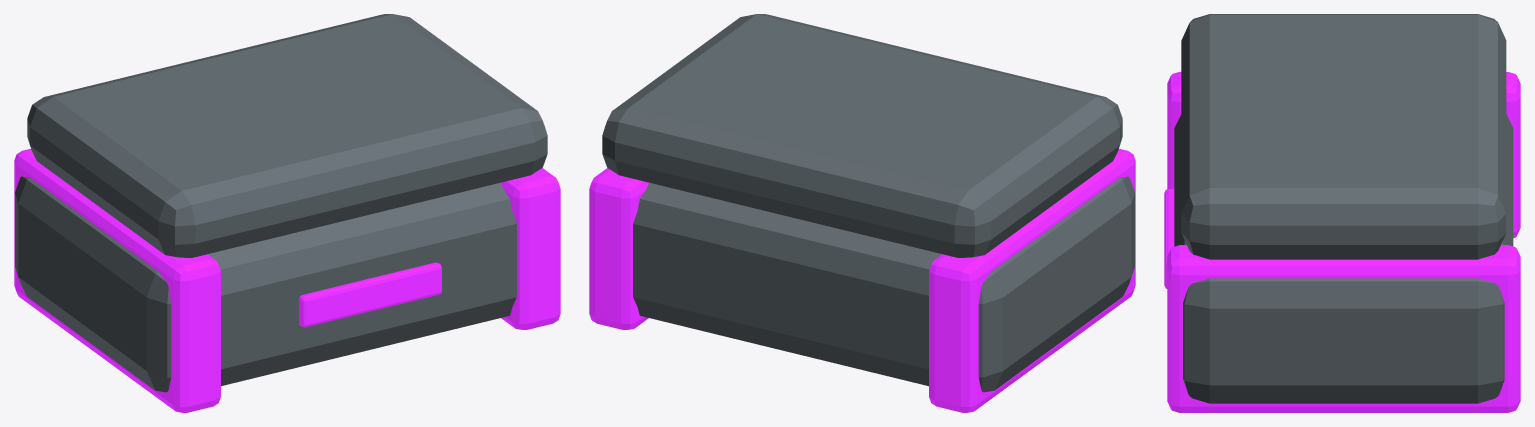
Rendered from CargoCase_Cursed.glb.
The picture shows the model from 3 angles, left to right: view 1: azimuth 30°, elevation 25°; view 2: azimuth 150°, elevation 25°; view 3: azimuth 270°, elevation 25°; orthographic projection. The views are drawn at different scales.
Parts seen in each view (by area): view 1: CargoCase_Cursed_Lid, CargoCase_Cursed, CargoCase_Cursed_Corner_L, CargoCase_Cursed_Corner_R, CargoCase_Cursed_Mark; view 2: CargoCase_Cursed_Lid, CargoCase_Cursed, CargoCase_Cursed_Corner_L, CargoCase_Cursed_Corner_R; view 3: CargoCase_Cursed_Lid, CargoCase_Cursed, CargoCase_Cursed_Corner_R, CargoCase_Cursed_Corner_L, CargoCase_Cursed_Mark.
Boxes of the visible parts, <box> form: CargoCase_Cursed_Lid: <box>27,14,547,257</box>; CargoCase_Cursed: <box>15,176,516,392</box>; CargoCase_Cursed_Corner_L: <box>14,148,220,412</box>; CargoCase_Cursed_Corner_R: <box>501,168,560,329</box>; CargoCase_Cursed_Mark: <box>299,262,441,327</box>; CargoCase_Cursed_Lid: <box>602,14,1122,257</box>; CargoCase_Cursed: <box>633,176,1134,392</box>; CargoCase_Cursed_Corner_L: <box>929,148,1135,412</box>; CargoCase_Cursed_Corner_R: <box>589,168,648,329</box>; CargoCase_Cursed_Lid: <box>1181,14,1506,259</box>; CargoCase_Cursed: <box>1174,114,1513,403</box>; CargoCase_Cursed_Corner_R: <box>1167,245,1520,412</box>; CargoCase_Cursed_Corner_L: <box>1167,72,1520,237</box>; CargoCase_Cursed_Mark: <box>1164,189,1174,288</box>.
Size of the model in its own units: 1.4 by 0.68 by 1.01.
